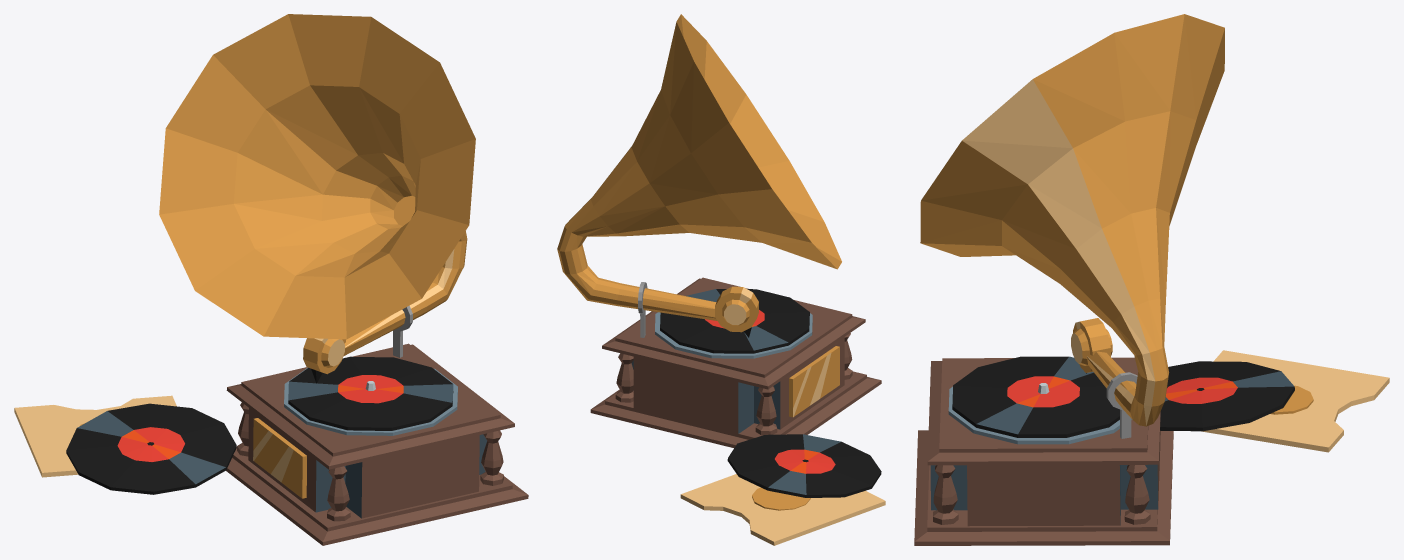
The model's file is grambody.fbx.
3 renders of one model, left to right at view 1: azimuth 30°, elevation 25°; view 2: azimuth 150°, elevation 25°; view 3: azimuth 270°, elevation 25°, orthographic. The views are drawn at different scales.
Visible parts, largest first — view 1: group225046476; view 2: group225046476; view 3: group225046476.
Boxes of the visible parts, bbox=[...] form: group225046476: bbox=[14, 14, 528, 545]; group225046476: bbox=[557, 14, 885, 545]; group225046476: bbox=[914, 14, 1389, 545].
Bounding box in the file's own units: 90.27 × 95.11 × 85.84.
